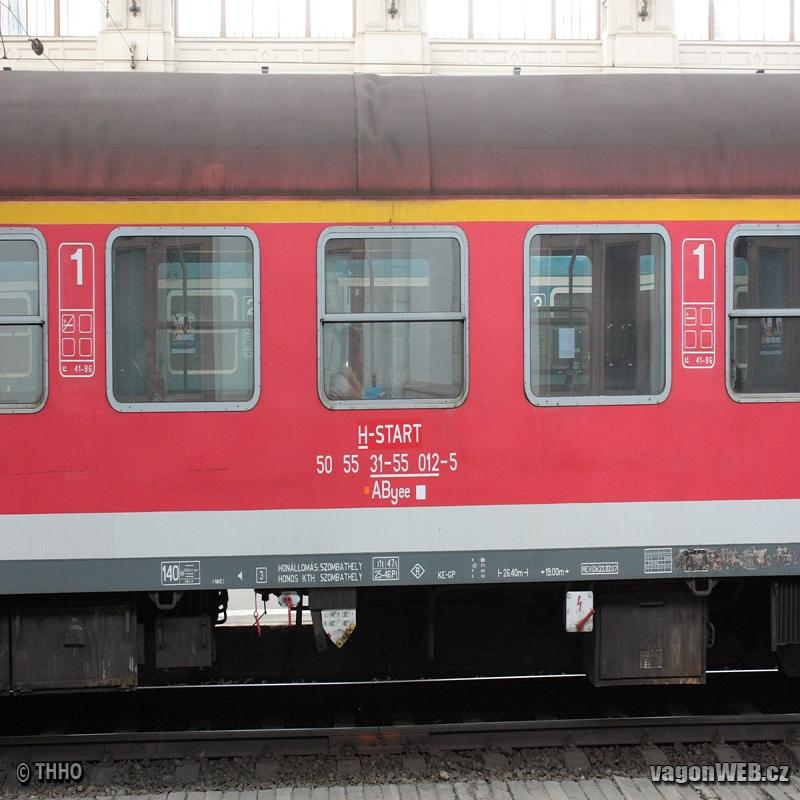train: (3, 70, 799, 700)
